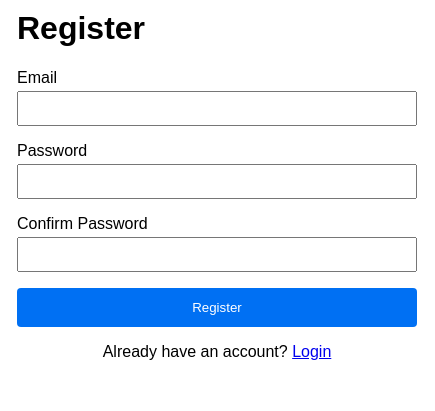
it: Register Page › shows error when passwords do not match
Type "test@example.com" into the field labelled "Email".
click(217, 108); type("test@example.com")  # box [17,91,417,126]
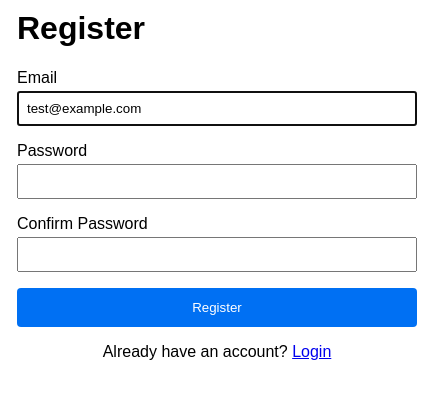
Type "password123" into the password field labelled "Password".
click(217, 181); type("password123")  # box [17,164,417,199]
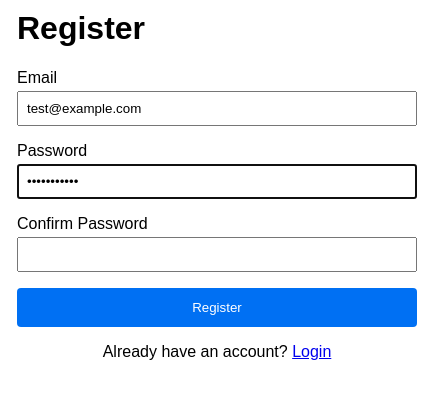
Type "different" into the password field labelled "Confirm Password".
click(217, 254); type("different")  # box [17,237,417,272]
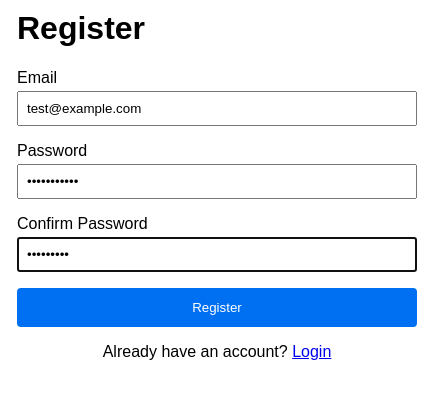
Click the button "Register".
click(217, 307)  # box [17,288,417,327]
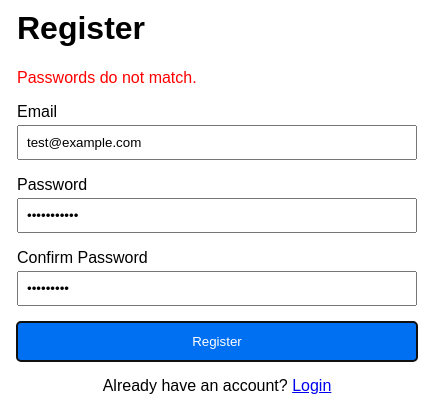
Expected: the text with test id "register-error" shows "Passwords do not match", [17,69,197,86]
